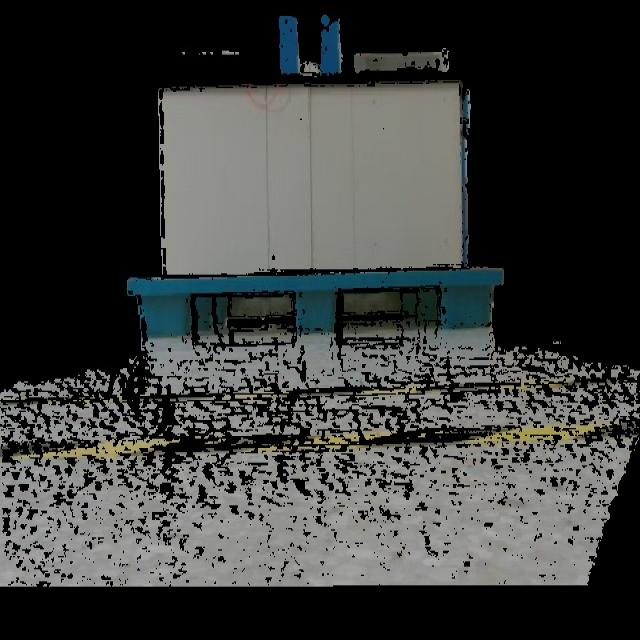block: (137, 287, 192, 343), (288, 284, 342, 338), (440, 282, 496, 330)
front: (132, 269, 504, 344)
